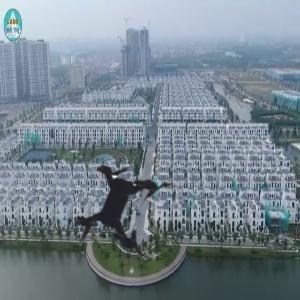drone: (33, 116, 217, 300)
